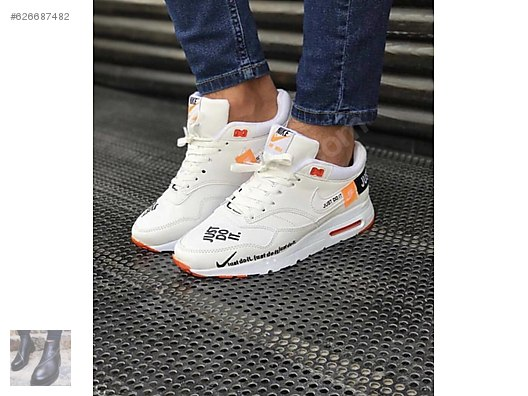nike: (212, 249, 239, 272)
